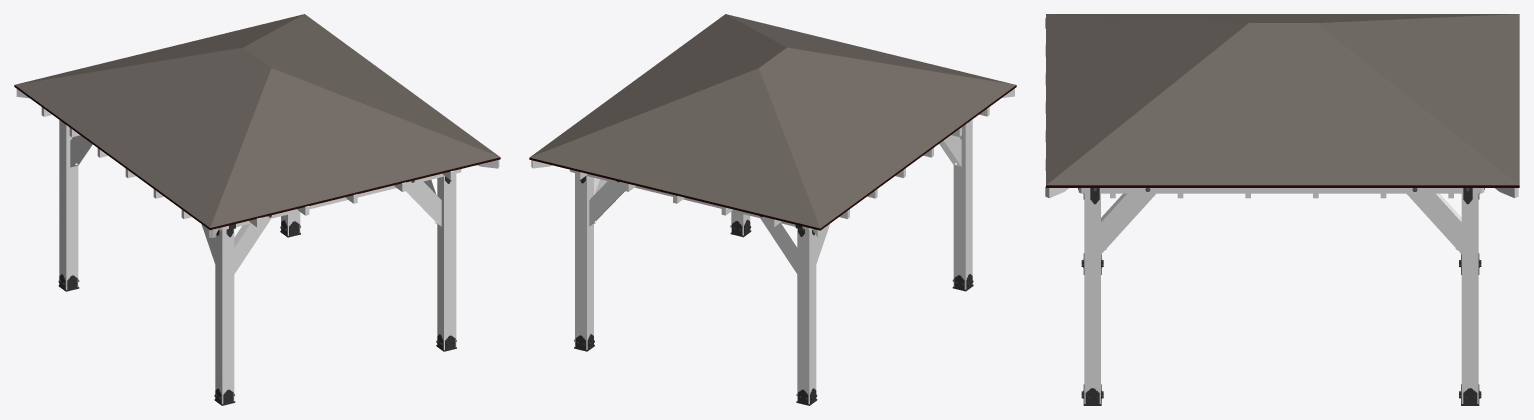
The model's file is saratoga-12x14-flush.obj.
3 views of the same model, side by side, from view 1: azimuth 30°, elevation 25°; view 2: azimuth 150°, elevation 25°; view 3: azimuth 270°, elevation 25° (orthographic). The views are drawn at different scales.
Parts seen in each view (by area): view 1: Mesh228 shingles roof Group1 Model, Mesh179 Group72 Component_92_4 Group1 Model, Mesh81 Group44 Component_92_2 Group1 Model, Mesh130 Group58 Component_92_3 Group1 Model, Mesh229 roof Group1 Model, Mesh219 Component_91_7 Component_92_4 Group1 Model, Mesh121 Component_91_3 Component_92_2 Group1 Model, Mesh77 Component_135_1 Group1 Model, Mesh174 Component_91_6 Component_92_3 Group1 Model; view 2: Mesh228 shingles roof Group1 Model, Mesh130 Group58 Component_92_3 Group1 Model, Mesh1 Group3 Component_92_1 Group2 Group1 Model, Mesh179 Group72 Component_92_4 Group1 Model, Mesh229 roof Group1 Model, Mesh170 Component_91_5 Component_92_3 Group1 Model, Mesh41 Component_91_1 Component_92_1 Group2 Group1 Model, Mesh79 Component_135_2 Group1 Model, Mesh223 Component_91_8 Component_92_4 Group1 Model; view 3: Mesh228 shingles roof Group1 Model, Mesh1 Group3 Component_92_1 Group2 Group1 Model, Mesh81 Group44 Component_92_2 Group1 Model, Mesh80 Component_134_2 Group1 Model, Mesh45 Component_91_2 Component_92_1 Group2 Group1 Model, Mesh125 Component_91_4 Component_92_2 Group1 Model, Mesh229 roof Group1 Model.
Part boxes in pixels (bbox=[...]): Mesh228 shingles roof Group1 Model: bbox=[15, 14, 499, 227]; Mesh179 Group72 Component_92_4 Group1 Model: bbox=[215, 229, 234, 404]; Mesh81 Group44 Component_92_2 Group1 Model: bbox=[437, 173, 456, 349]; Mesh130 Group58 Component_92_3 Group1 Model: bbox=[59, 120, 78, 289]; Mesh229 roof Group1 Model: bbox=[14, 85, 500, 230]; Mesh219 Component_91_7 Component_92_4 Group1 Model: bbox=[234, 219, 270, 273]; Mesh121 Component_91_3 Component_92_2 Group1 Model: bbox=[406, 181, 441, 226]; Mesh77 Component_135_1 Group1 Model: bbox=[218, 169, 461, 230]; Mesh174 Component_91_6 Component_92_3 Group1 Model: bbox=[70, 135, 92, 167]; Mesh228 shingles roof Group1 Model: bbox=[530, 14, 1015, 228]; Mesh130 Group58 Component_92_3 Group1 Model: bbox=[797, 228, 816, 404]; Mesh1 Group3 Component_92_1 Group2 Group1 Model: bbox=[575, 173, 593, 349]; Mesh179 Group72 Component_92_4 Group1 Model: bbox=[953, 119, 972, 289]; Mesh229 roof Group1 Model: bbox=[529, 85, 1016, 230]; Mesh170 Component_91_5 Component_92_3 Group1 Model: bbox=[760, 218, 797, 273]; Mesh41 Component_91_1 Component_92_1 Group2 Group1 Model: bbox=[589, 181, 624, 226]; Mesh79 Component_135_2 Group1 Model: bbox=[569, 169, 812, 229]; Mesh223 Component_91_8 Component_92_4 Group1 Model: bbox=[939, 135, 961, 166]; Mesh228 shingles roof Group1 Model: bbox=[1046, 14, 1519, 185]; Mesh1 Group3 Component_92_1 Group2 Group1 Model: bbox=[1461, 193, 1478, 403]; Mesh81 Group44 Component_92_2 Group1 Model: bbox=[1084, 193, 1100, 403]; Mesh80 Component_134_2 Group1 Model: bbox=[1090, 188, 1472, 193]; Mesh45 Component_91_2 Component_92_1 Group2 Group1 Model: bbox=[1407, 193, 1461, 253]; Mesh125 Component_91_4 Component_92_2 Group1 Model: bbox=[1101, 193, 1155, 254]; Mesh229 roof Group1 Model: bbox=[1046, 185, 1519, 187].
Bounding box in the file's own units: 144 × 123 × 168.
